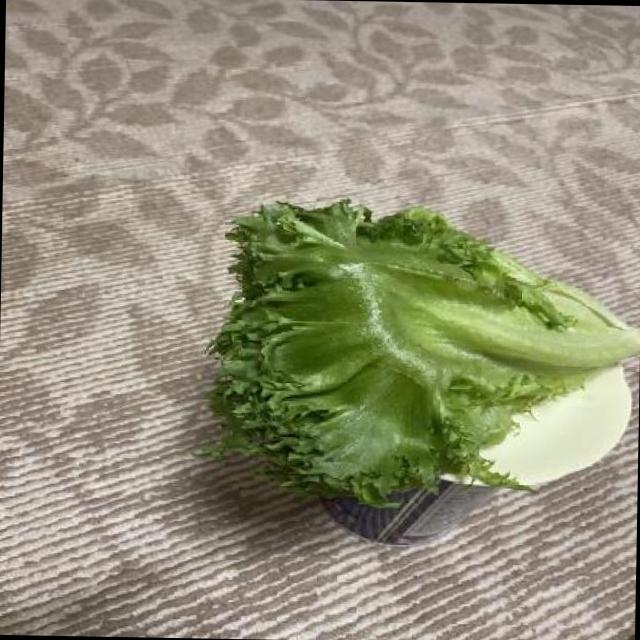Lettuce-Ready-to-Harvest: (211, 200, 640, 503)
